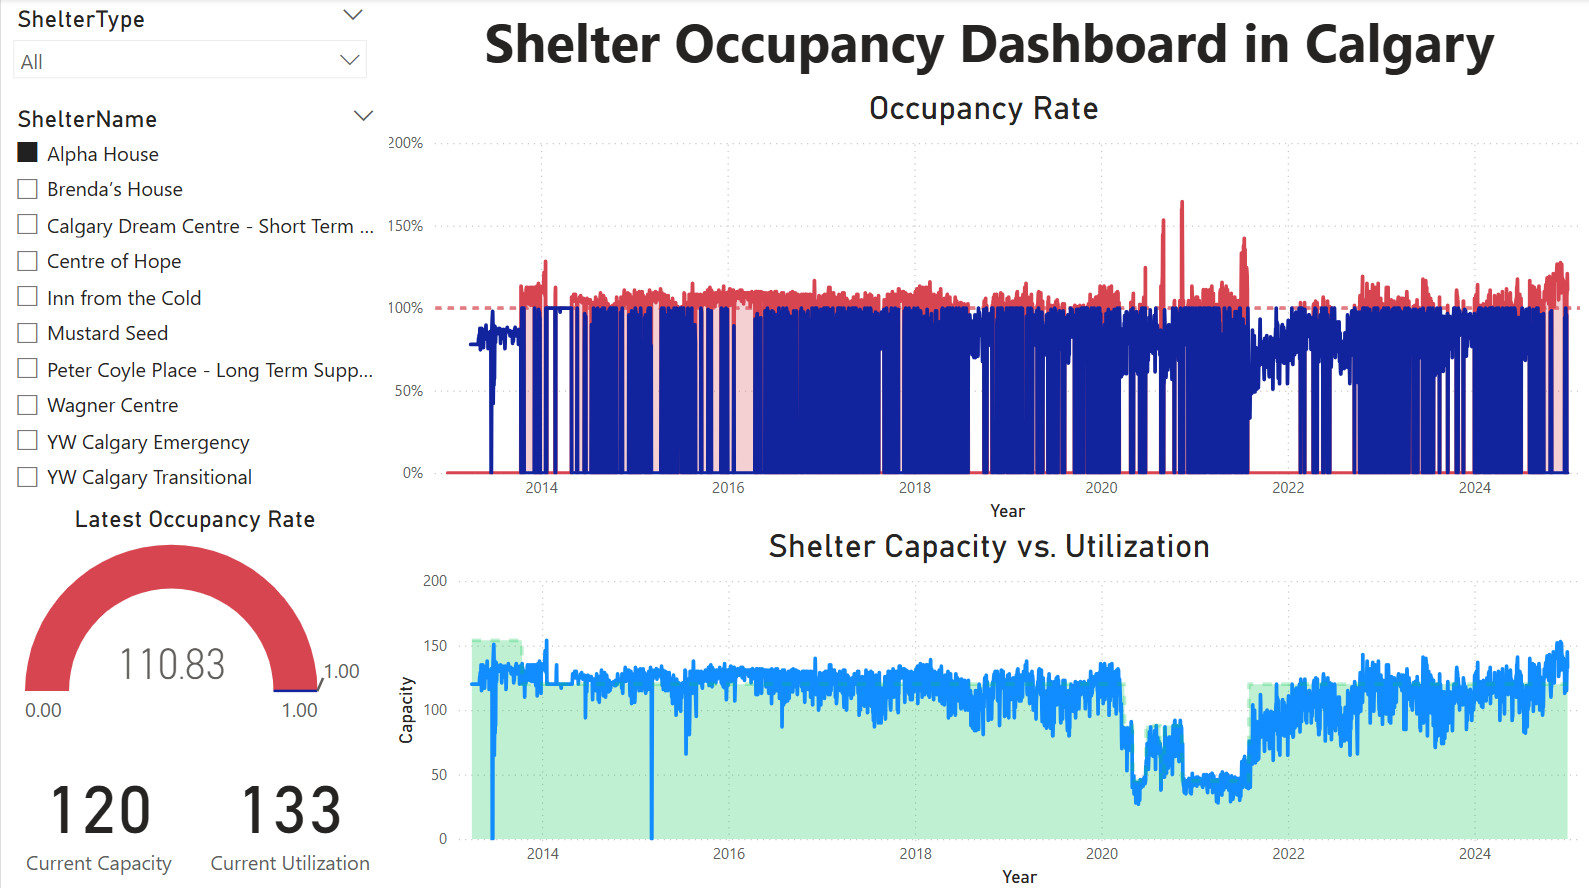

The dashboard page shown, as its layout file describes it:
{"tool":"powerbi","page":{"name":"Page 1","canvas":[1280,720],"ordinal":0},"visuals":[{"type":"lineChart","title":"Occupancy Rate","fields":{"Category":["YYC_shelter.date.Variation.Date Hierarchy.Year","YYC_shelter.date.Variation.Date Hierarchy.Quarter","YYC_shelter.date.Variation.Date Hierarchy.Month","YYC_shelter.date.Variation.Date Hierarchy.Day"],"Y":["YYC_shelter.Exceed Occupancy","YYC_shelter.Normal Occupancy"]},"box":[304.5,72.5,975.1,352.8],"z":0},{"type":"slicer","fields":{"Values":["YYC_shelter.ShelterName"]},"box":[0,81,313,327.5],"z":1000},{"type":"areaChart","title":"Shelter Capacity vs. Utilization","fields":{"Category":["YYC_shelter.date.Variation.Date Hierarchy.Year","YYC_shelter.date.Variation.Date Hierarchy.Quarter","YYC_shelter.date.Variation.Date Hierarchy.Month","YYC_shelter.date.Variation.Date Hierarchy.Day"],"Y":["YYC_shelter.Overnight","YYC_shelter.Capacity"]},"box":[313,425.3,966.7,294.8],"z":2000},{"type":"gauge","title":"Latest Occupancy Rate","fields":{"Y":["YYC_shelter.Latest Occupancy Rate1"]},"box":[0,408.4,313,186.1],"z":3000},{"type":"card","fields":{"Values":["YYC_shelter.Current Capacity"]},"box":[0,594.5,157.1,125.7],"z":4000},{"type":"card","fields":{"Values":["YYC_shelter.Current Utilization"]},"box":[152.2,594.5,160.7,125.7],"z":5000},{"type":"slicer","fields":{"Values":["YYC_shelter.ShelterType"]},"box":[0,0,304.5,81],"z":6000},{"type":"textbox","box":[313,0,966.7,72.5],"z":7000}]}

Visuals, with their boxes in screenshot pixels (x1, y1, x2, y2), scaled from the page's 1280x720 canvas onto the 1589x888 screenshot:
"Occupancy Rate" lineChart: 378,89,1588,525
slicer - YYC_shelter.ShelterName: 0,100,389,504
"Shelter Capacity vs. Utilization" areaChart: 389,525,1588,887
"Latest Occupancy Rate" gauge: 0,504,389,733
card - YYC_shelter.Current Capacity: 0,733,195,887
card - YYC_shelter.Current Utilization: 189,733,388,887
slicer - YYC_shelter.ShelterType: 0,0,378,100
textbox: 389,0,1588,89
